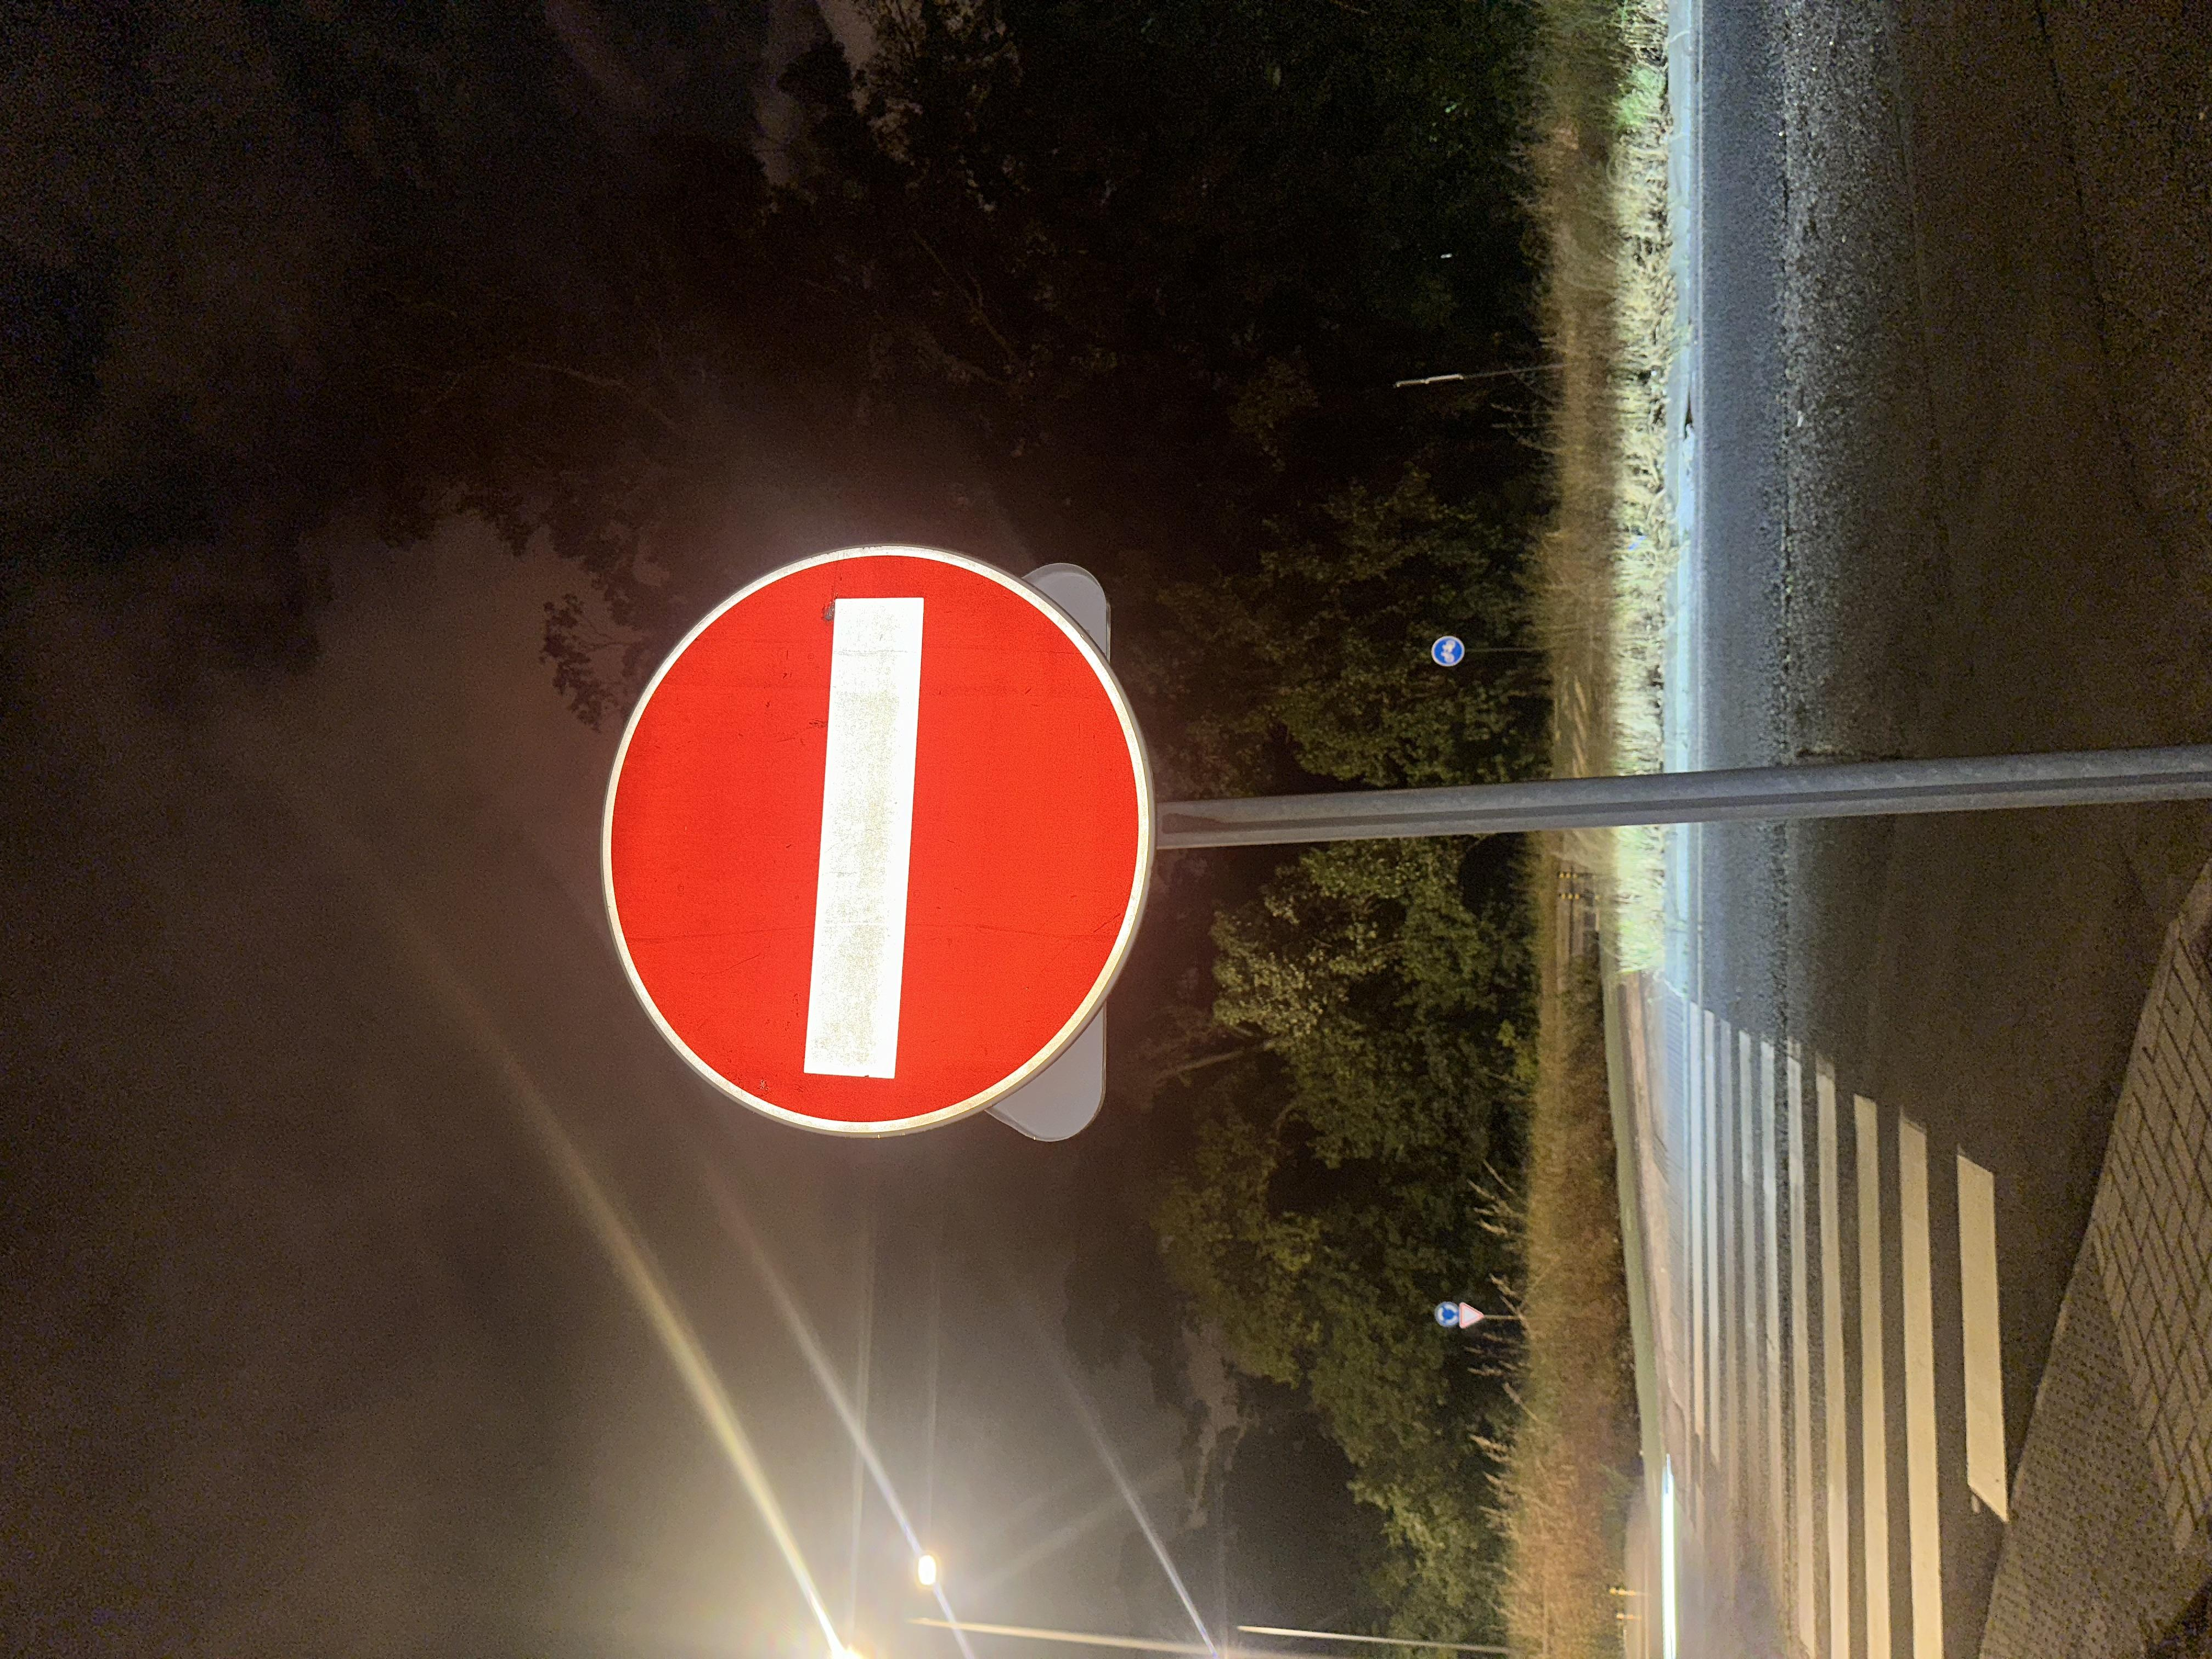Sentido proibido: (664, 443, 1592, 890)
